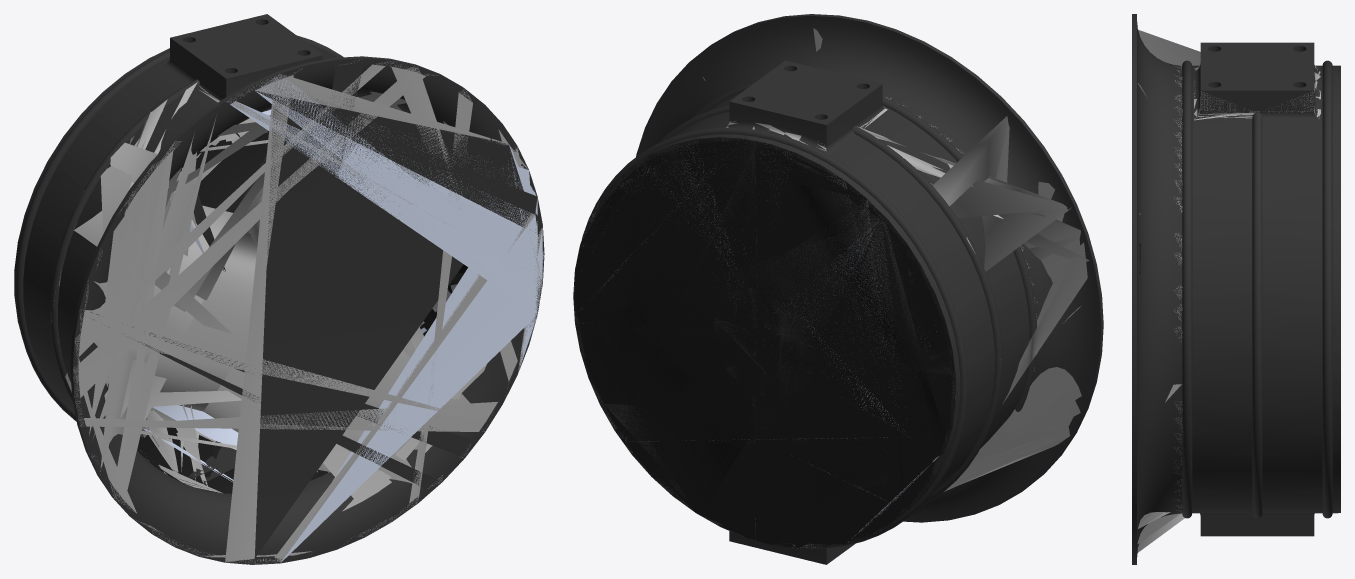
The model's file is gimbal1_link.dae.
The picture shows the model from 3 angles, left to right: view 1: azimuth 30°, elevation 25°; view 2: azimuth 150°, elevation 25°; view 3: azimuth 270°, elevation 25°; orthographic projection.
Parts seen in each view (by area): view 1: node17, node0, node18, node19, node13, node9; view 2: node1, node0, node5, node17, node9, node13; view 3: node0, node17.
Part boxes in pixels (box(x1,y1,x2,y2)): node17: box(51, 59, 543, 564); node0: box(14, 14, 544, 564); node18: box(86, 58, 544, 558); node19: box(140, 74, 544, 562); node13: box(137, 138, 452, 492); node9: box(107, 132, 467, 493); node1: box(573, 138, 955, 548); node0: box(573, 14, 1103, 564); node5: box(574, 138, 955, 547); node17: box(573, 28, 1089, 536); node9: box(573, 137, 954, 547); node13: box(574, 138, 955, 546); node0: box(1132, 14, 1340, 564); node17: box(1137, 29, 1320, 552).
Size of the model in its own units: 0.165 by 0.165 by 0.0625.
